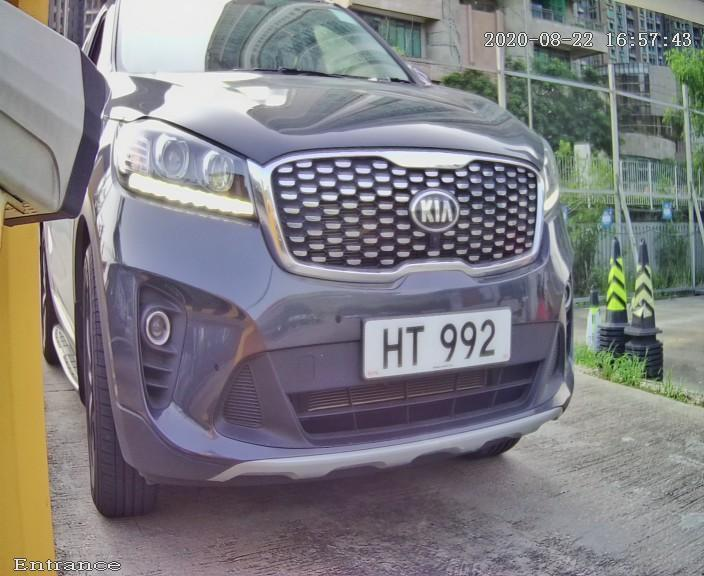Car: (13, 8, 620, 523)
License Plate: (356, 299, 516, 384)
